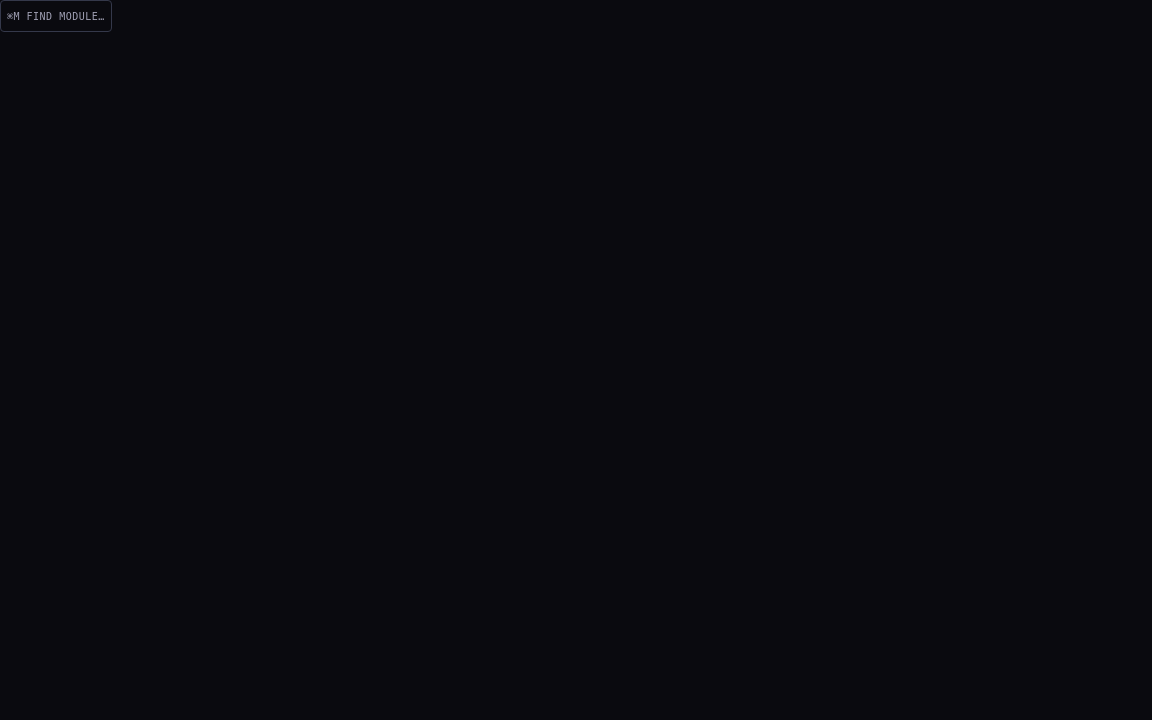
Test: ModuleFinder › opens on ⌘M, filters by id or name, and selecting adds a recent chip
Press m
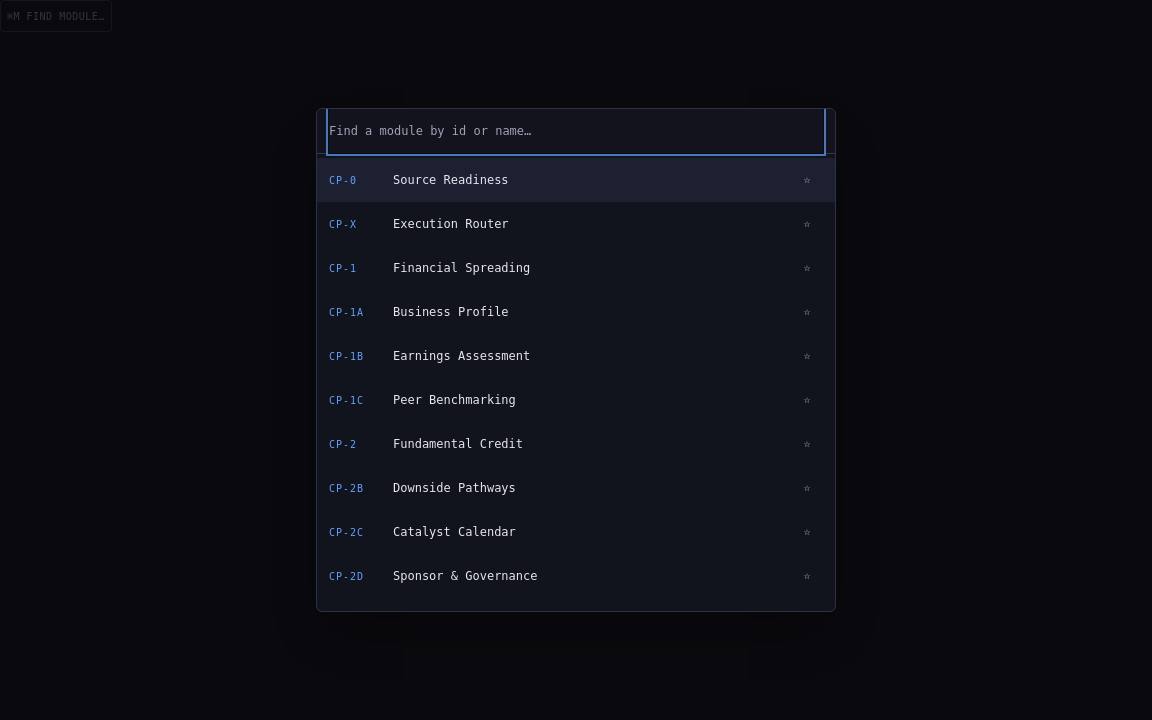
In the dropdown: (576, 131) x1=329 y1=109 x2=823 y2=153, type "liquidity"
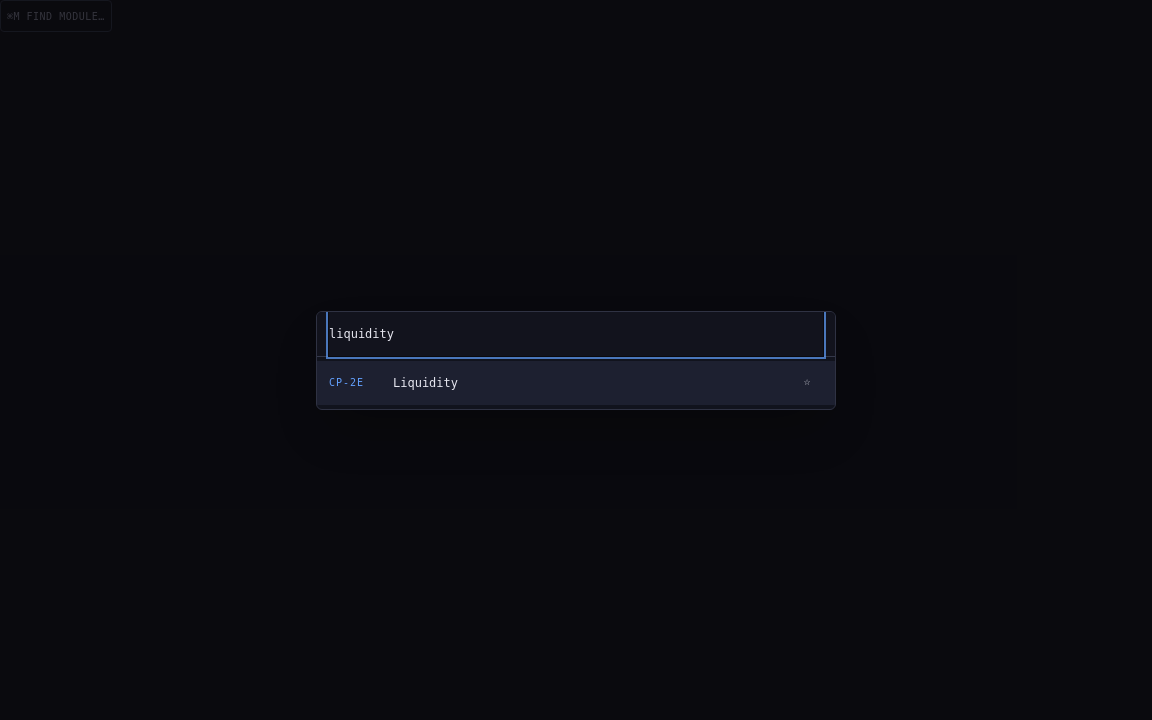
Press the mouse on the text "Liquidity": (426, 382) x1=393 y1=376 x2=458 y2=390
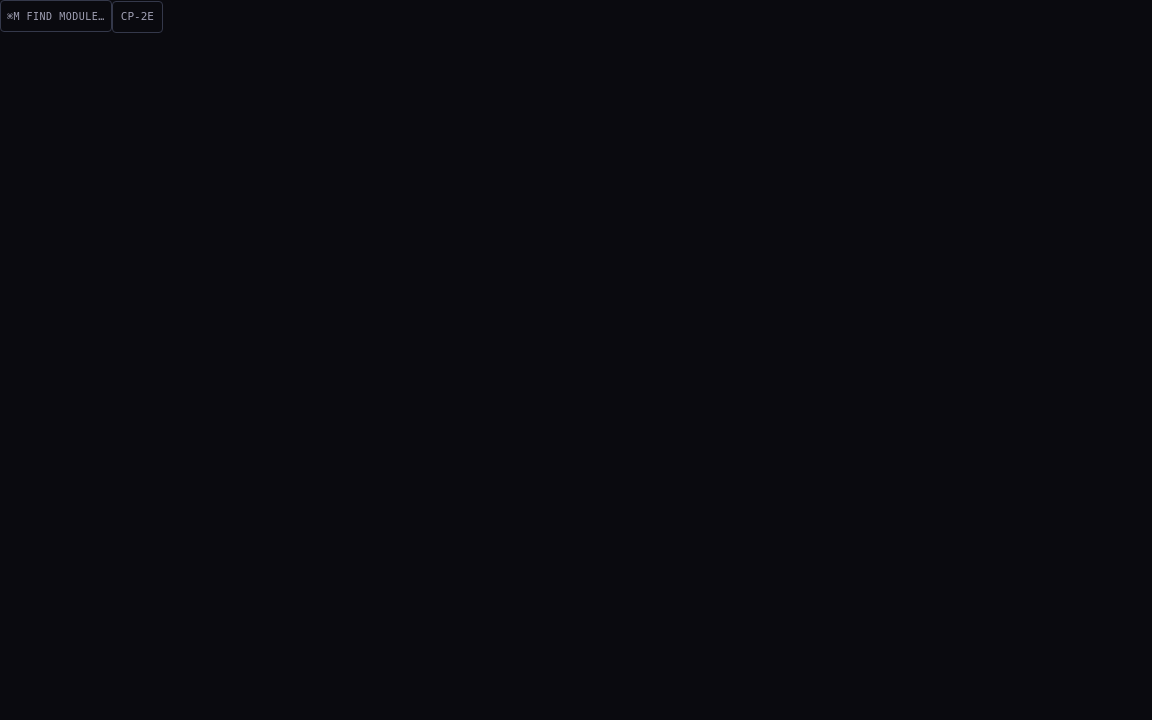
Check: the dialog is gone
Check: the button titled "Liquidity" is shown, box x1=112 y1=1 x2=163 y2=33
